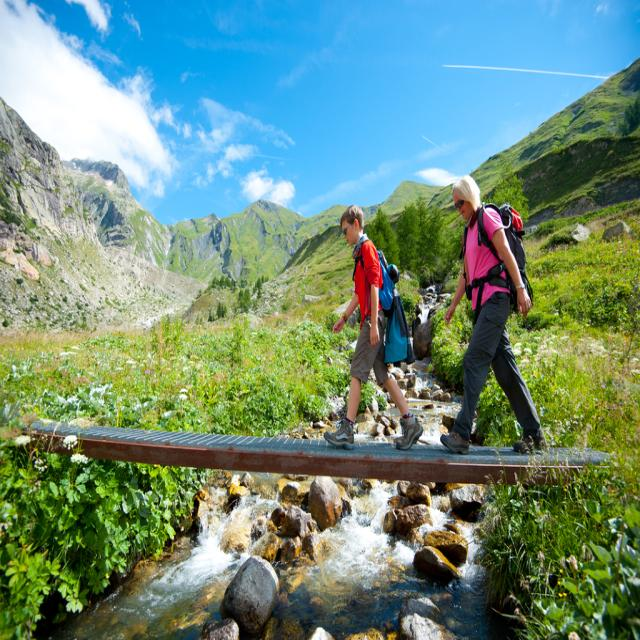backpack: (469, 206, 532, 312), (360, 233, 395, 311)
